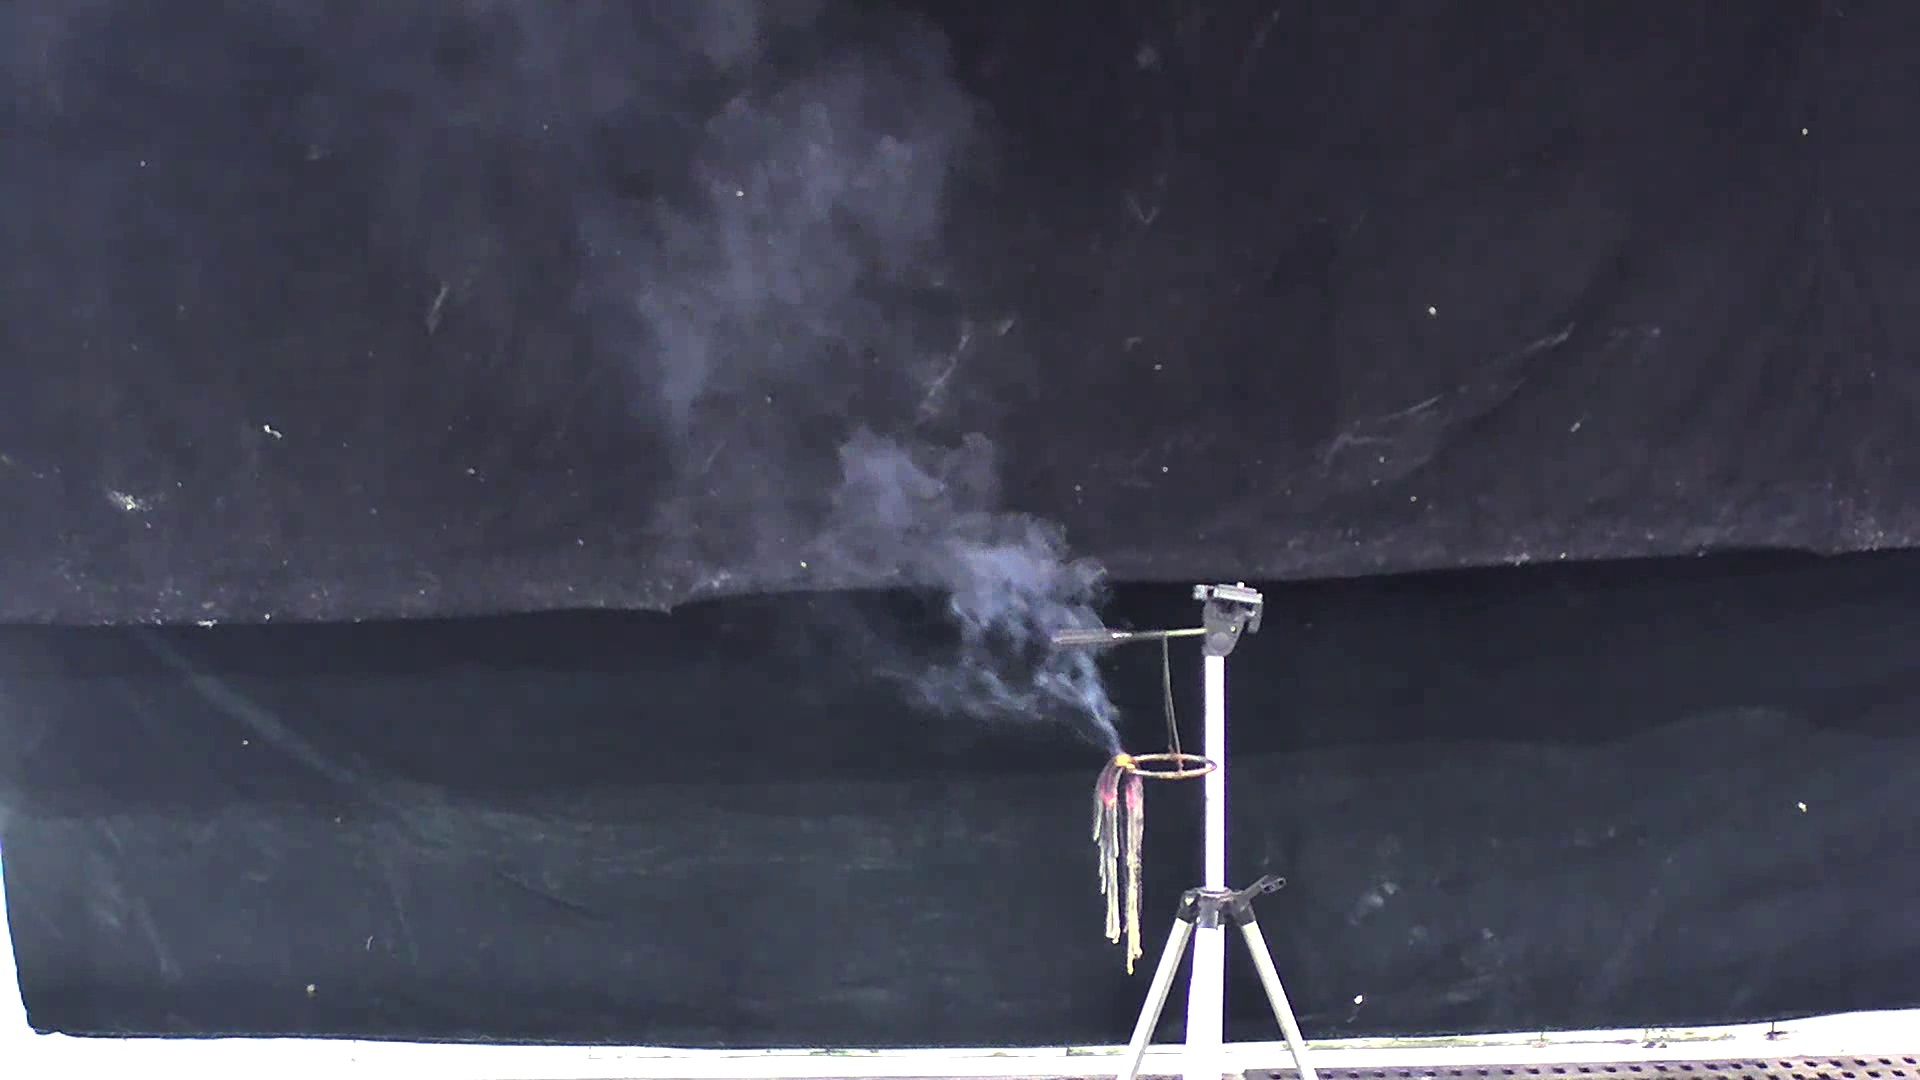smoke: (541, 20, 1145, 760)
